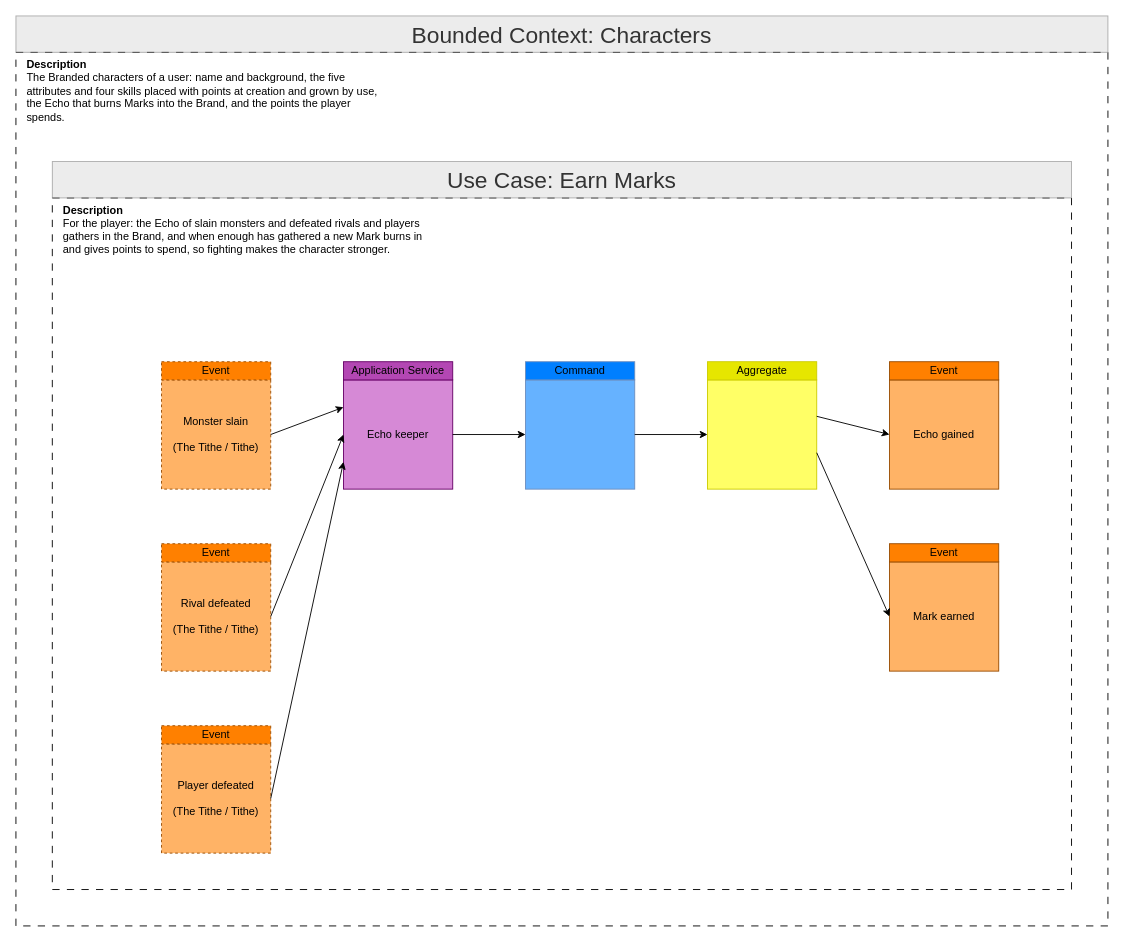
Some shapes in this 1124 by 942 pixel diagram are drawn without their labels. Each missing label, with the box of its shape:
Character Mark Echo Attribute points Skill points: (707, 379, 817, 489)
Gain Echo Echo: (525, 379, 635, 489)
